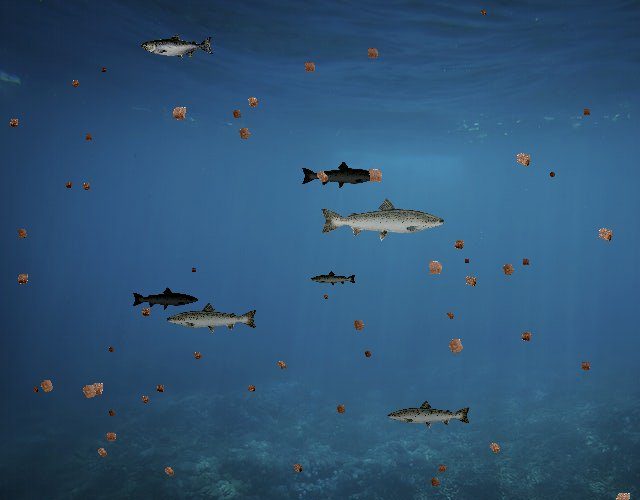Fish: (318, 196, 447, 242), (165, 302, 259, 336), (386, 399, 472, 430), (300, 161, 381, 190), (141, 33, 214, 60), (131, 287, 199, 311), (310, 271, 357, 288)
Pellet: (165, 99, 193, 127), (310, 164, 334, 188), (232, 121, 256, 145), (241, 91, 264, 114), (608, 484, 638, 500), (12, 224, 33, 245), (78, 178, 94, 194), (546, 168, 559, 181), (29, 383, 41, 395)
